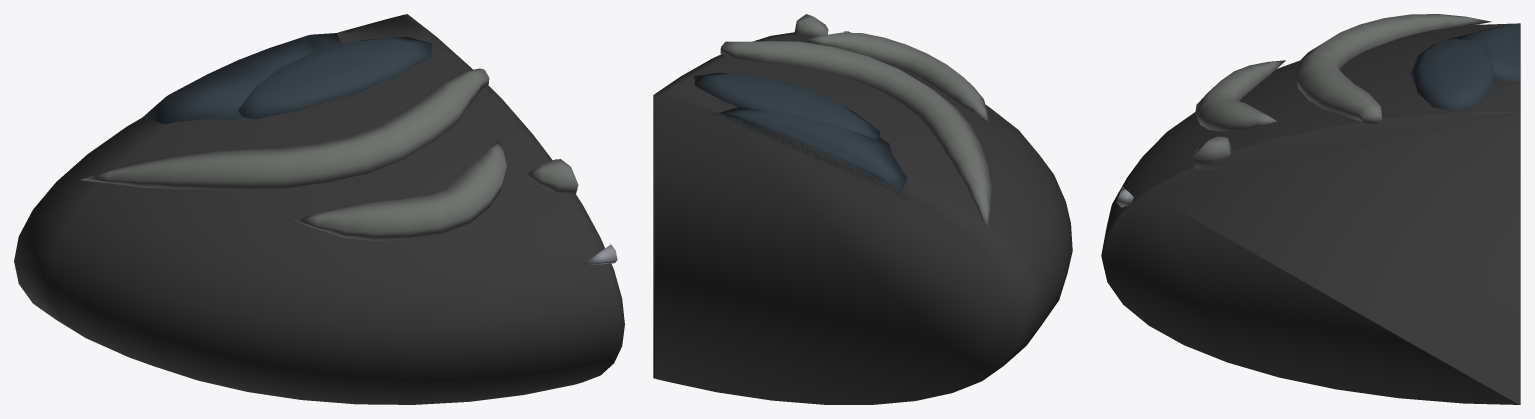
File: newshu-129.glb
3 views of the same model, side by side, from view 1: azimuth 30°, elevation 25°; view 2: azimuth 150°, elevation 25°; view 3: azimuth 270°, elevation 25° (orthographic). The views are drawn at different scales.
Visible parts, largest first — view 1: newshu-129; view 2: newshu-129; view 3: newshu-129.
Boxes of the visible parts, box(x1,y1,x2,y2) form: newshu-129: box(14, 14, 624, 404); newshu-129: box(653, 14, 1072, 404); newshu-129: box(1101, 14, 1520, 404).
Size of the model in its own units: 1.96 by 1.46 by 1.88.
